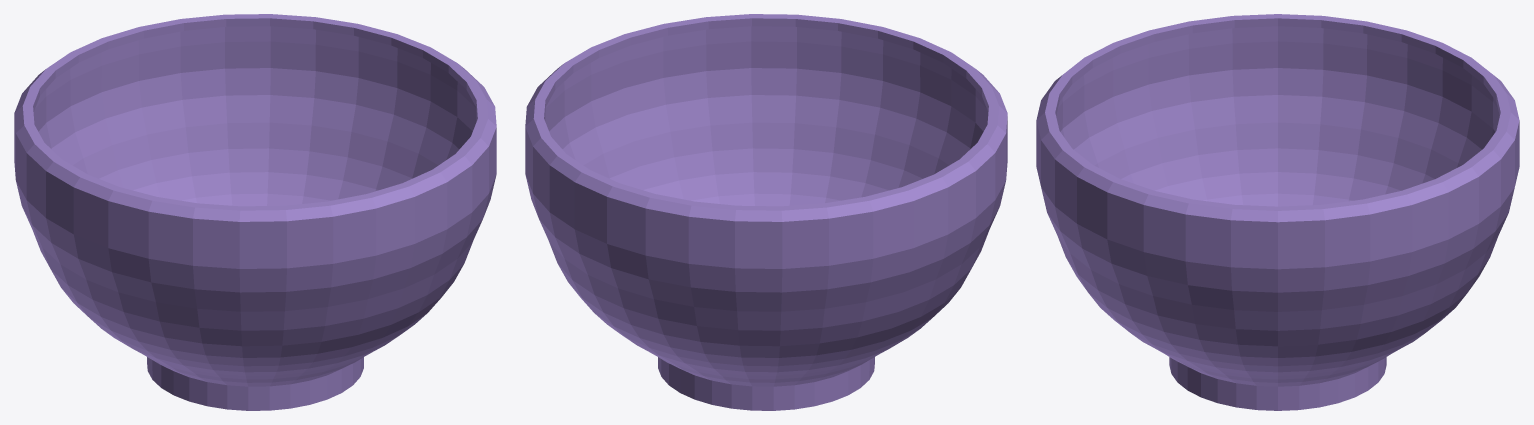
File: Schaaltje2.obj
The picture shows the model from 3 angles, left to right: view 1: azimuth 30°, elevation 25°; view 2: azimuth 150°, elevation 25°; view 3: azimuth 270°, elevation 25°; orthographic projection.
Visible parts, largest first — view 1: Cylinder_Material.001; view 2: Cylinder_Material.001; view 3: Cylinder_Material.001.
Boxes of the visible parts, left/top/right/bottom form: Cylinder_Material.001: left=14, top=14, right=496, bottom=410; Cylinder_Material.001: left=525, top=14, right=1007, bottom=410; Cylinder_Material.001: left=1036, top=14, right=1519, bottom=410.
Bounding box in the file's own units: 21.6 × 12.46 × 21.6.
